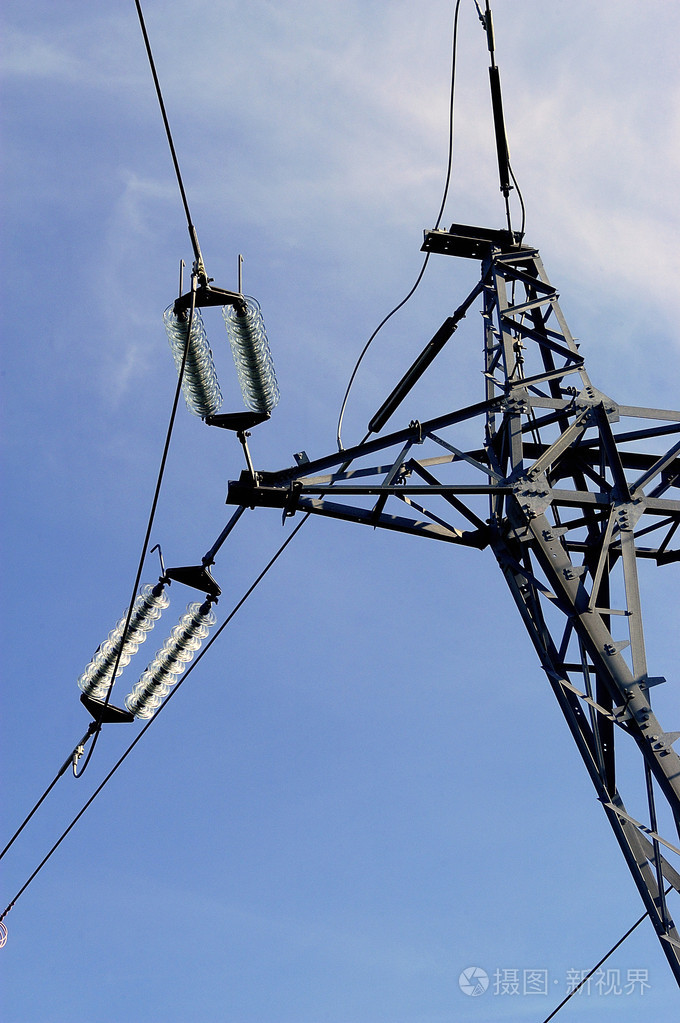insulator: (79, 586, 217, 717), (162, 301, 283, 420)
